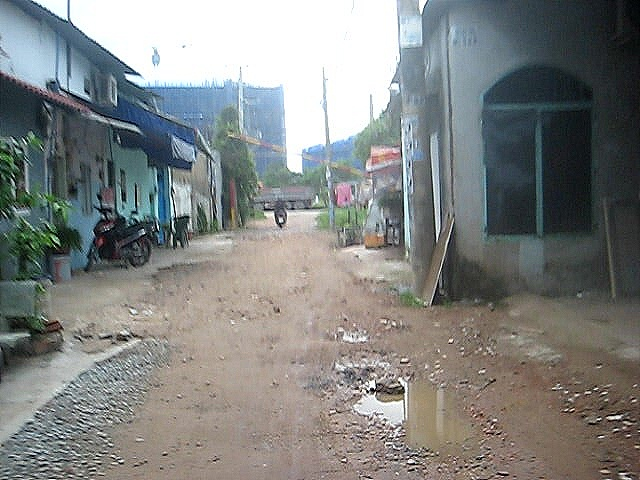hole: (316, 348, 528, 480), (325, 312, 374, 345)
